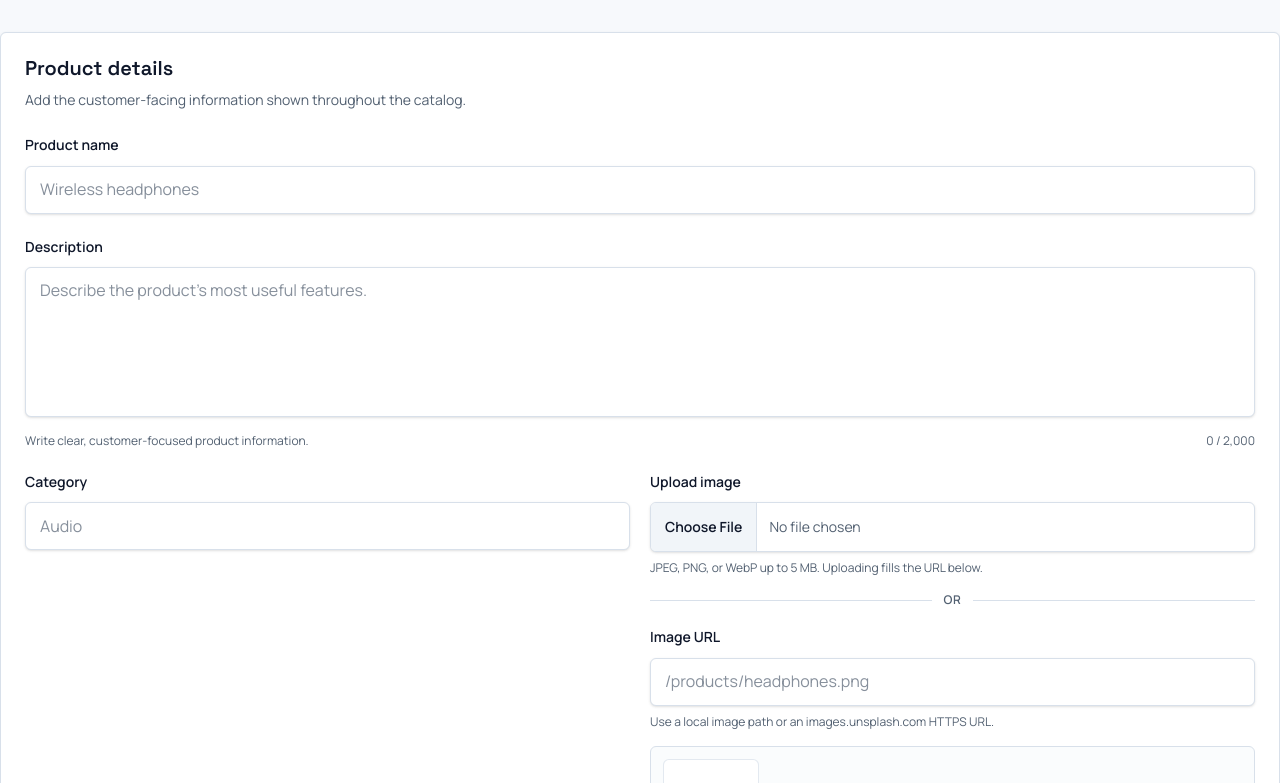
Test case: AdminProductForm › does not render unsupported image sources
Type "http://example.com/product.png" into the field labelled "Image URL". click: (952, 682)
box: [650,658,1255,706]
(page scrolled)
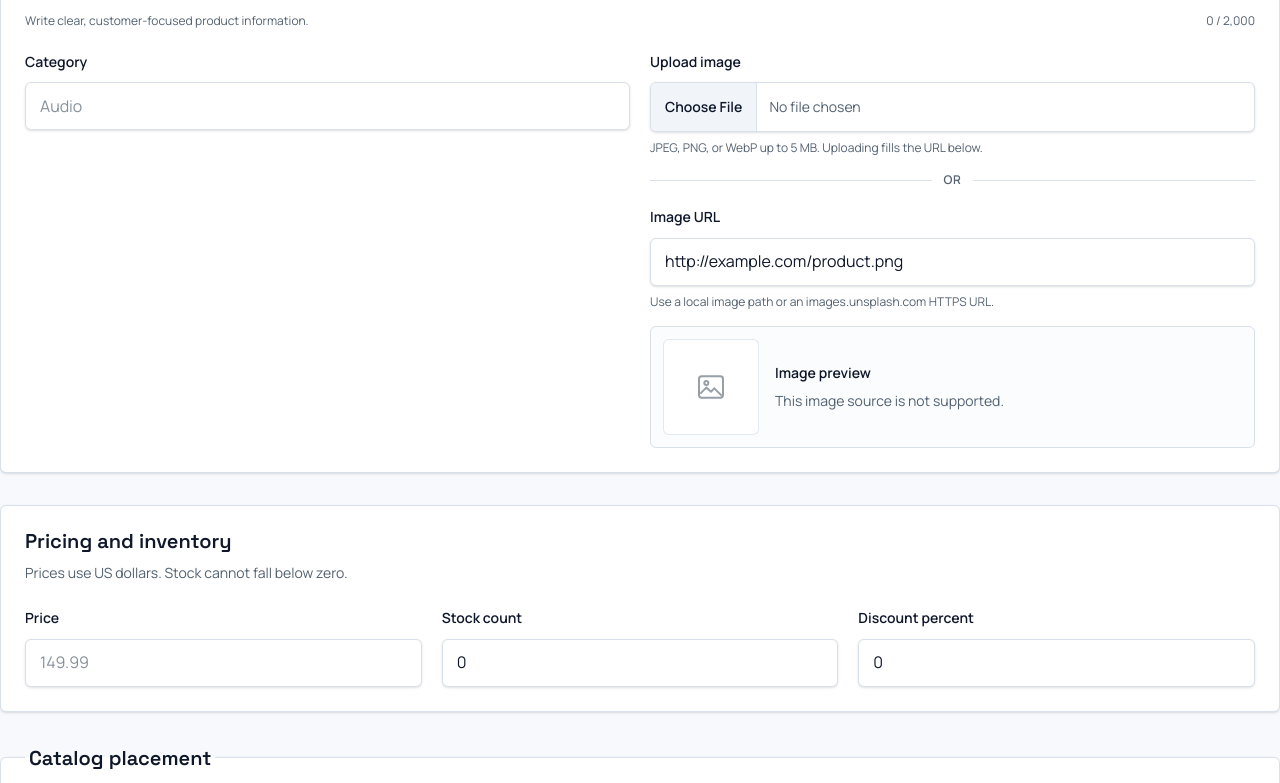
expect the text "This image source is not supported." is shown: met, box [775,389,1004,413]
